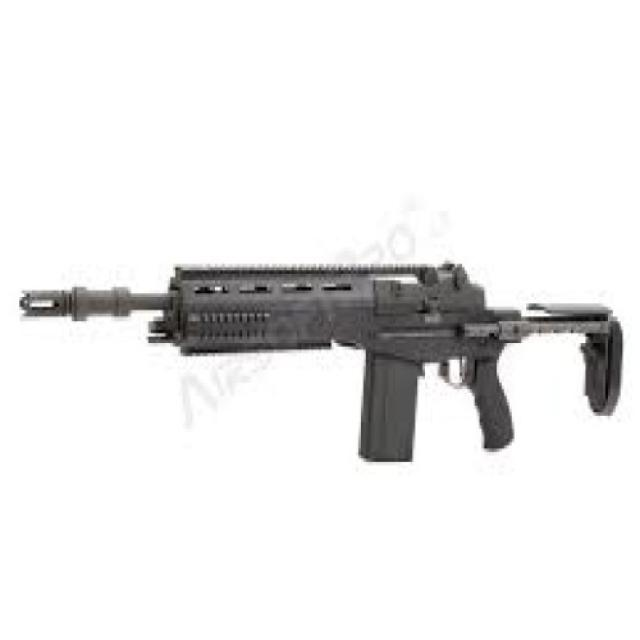Gun: (19, 240, 633, 473)
